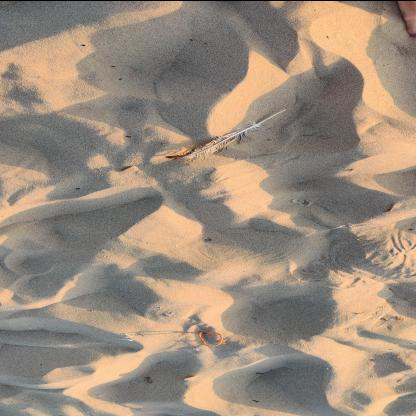diger: (198, 330, 226, 346)
